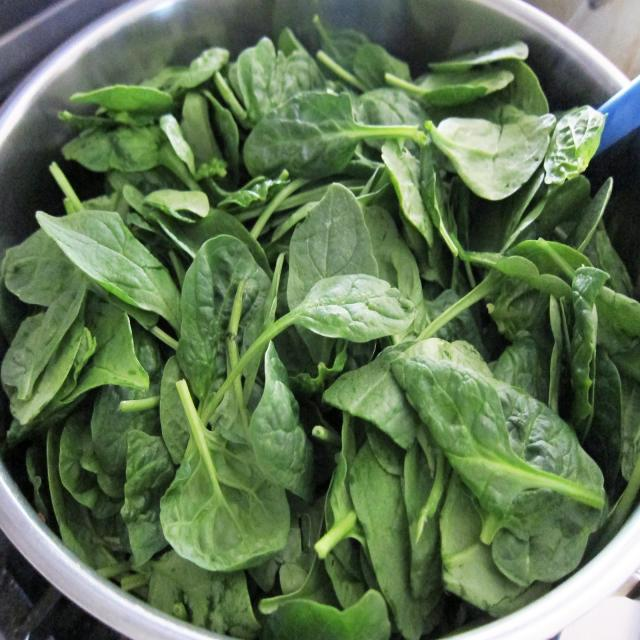spinach: (428, 368, 597, 544), (160, 441, 281, 571), (87, 201, 172, 322), (288, 185, 380, 277), (302, 274, 422, 339), (268, 89, 356, 176), (327, 370, 416, 444), (548, 106, 597, 186)
